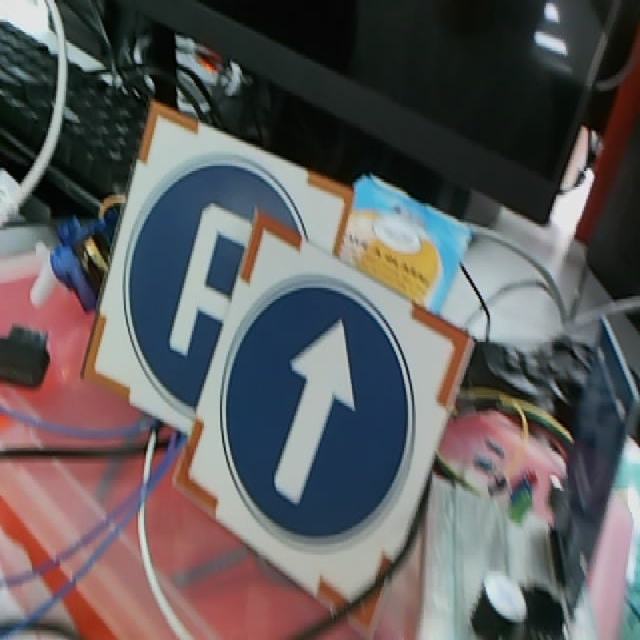parking: (85, 104, 348, 443)
straight: (174, 214, 471, 597)
